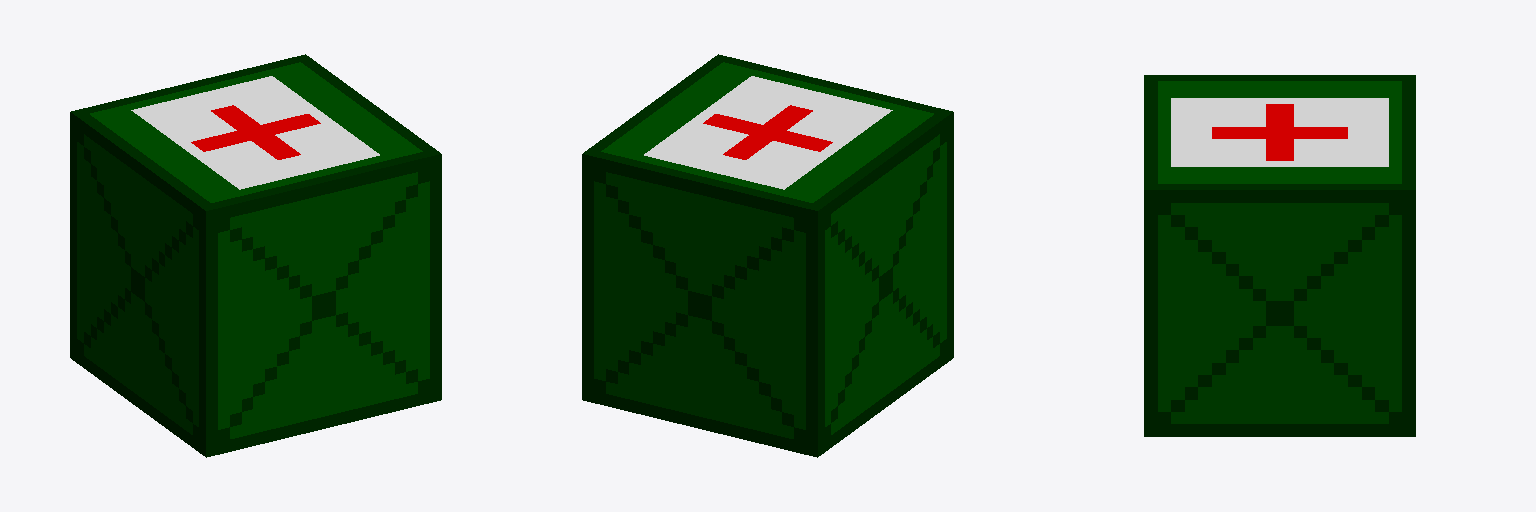
3 views of the same model, side by side, from view 1: azimuth 30°, elevation 25°; view 2: azimuth 150°, elevation 25°; view 3: azimuth 270°, elevation 25° (orthographic).
Visible parts, largest first — view 1: HpHealth; view 2: HpHealth; view 3: HpHealth.
Part boxes in pixels (bbox=[...]): HpHealth: bbox=[70, 54, 441, 457]; HpHealth: bbox=[582, 54, 953, 457]; HpHealth: bbox=[1144, 75, 1415, 436].
Size of the model in its own units: 20 by 20 by 20.
Materials: 1 (1 with a texture image).